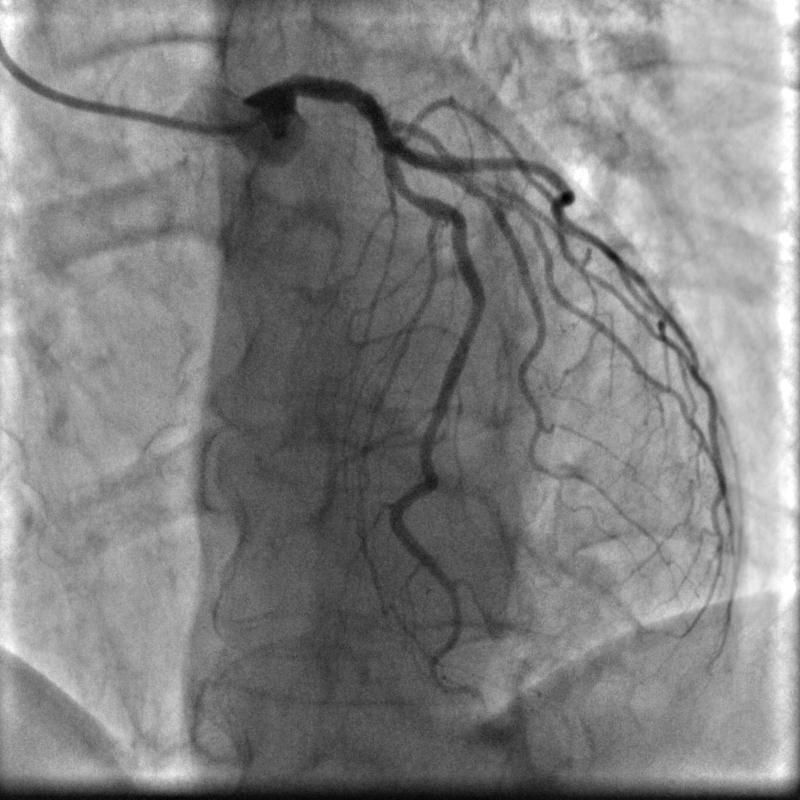Stenosis: (390, 177, 426, 205)
